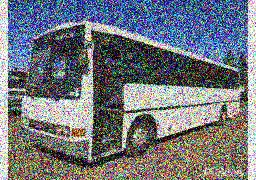bus: (23, 20, 240, 163)
